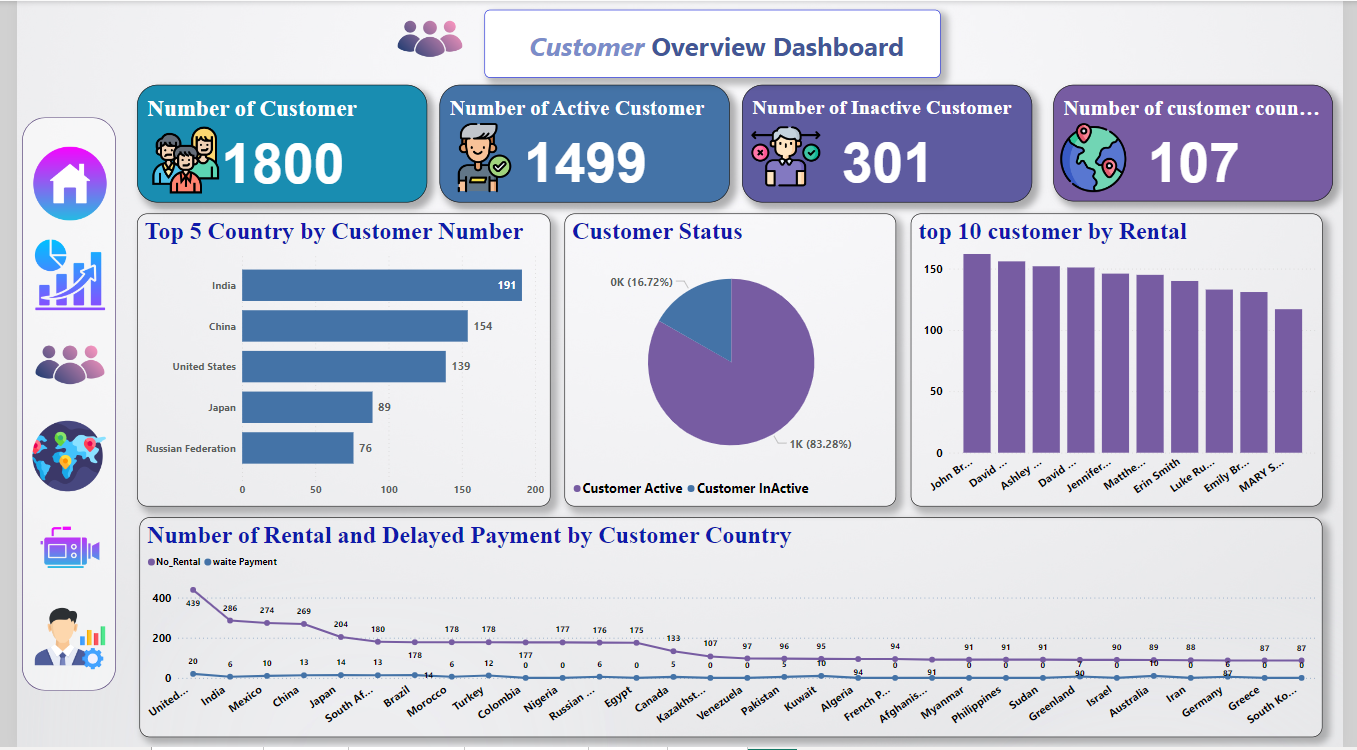

Layout of this report page (visuals, bound fields, positions):
{"tool":"tableau","page":{"name":"Customer","canvas":[1920,1080],"ordinal":1},"visuals":[{"type":"image","param":"D:/ITI intensive code camp/Graduation Project/Sakila/Tableau/navigation bar 4 sh","box":[8,8,1904,1064]},{"type":"worksheet","title":"# Rentals by top 10 customer","mark":"Bar","rows":["factRental_277D3C340DA44283803A628062DB8D6C","factRental_277D3C340DA44283803A628062DB8D6C"],"cols":["customerFirstName"],"box":[713,92,1149,277]},{"type":"worksheet","title":"Active Customers","mark":"Bar","cols":["customerKey (dimCustomer)","customerIsActive"],"box":[131,103,541,277]},{"type":"legend","title":"Active Customers","param":"[federated.0l1fx9e0quqb8p1d9259202rjaje (copy)].[:Measure Names]","box":[134,260,388,89]},{"type":"worksheet","title":"Period Rented by customer Country ","mark":"Bar","rows":["Calculation_589127193684451334"],"cols":["customerCountry"],"box":[726,399,1139,383]},{"type":"worksheet","title":"# Rentals by customer continant ","mark":"Bar","rows":["customerContinent"],"cols":["factRental_277D3C340DA44283803A628062DB8D6C","factRental_277D3C340DA44283803A628062DB8D6C"],"box":[125,401,541,378]},{"type":"dashboard-object","box":[734,823,185,123]},{"type":"dashboard-object","box":[1017,828,180,123]},{"type":"dashboard-object","box":[1298,828,180,123]},{"type":"dashboard-object","box":[1579,828,180,123]},{"type":"dashboard-object","box":[455,830,180,123]},{"type":"dashboard-object","box":[178,834,175,122]}]}

Visuals, with their boxes in screenshot pixels (x1, y1, x2, y2), scaled from the page's 1920x1080 canvas onto the 1357x750 screenshot:
image: [6, 6, 1351, 744]
"# Rentals by top 10 customer" worksheet (Bar marks): [504, 64, 1316, 256]
"Active Customers" worksheet (Bar marks): [93, 72, 475, 264]
"Active Customers" legend: [95, 181, 369, 242]
"Period Rented by customer Country " worksheet (Bar marks): [513, 277, 1318, 543]
"# Rentals by customer continant " worksheet (Bar marks): [88, 278, 471, 541]
dashboard-object: [519, 572, 650, 657]
dashboard-object: [719, 575, 846, 660]
dashboard-object: [917, 575, 1045, 660]
dashboard-object: [1116, 575, 1243, 660]
dashboard-object: [322, 576, 449, 662]
dashboard-object: [126, 579, 249, 664]
